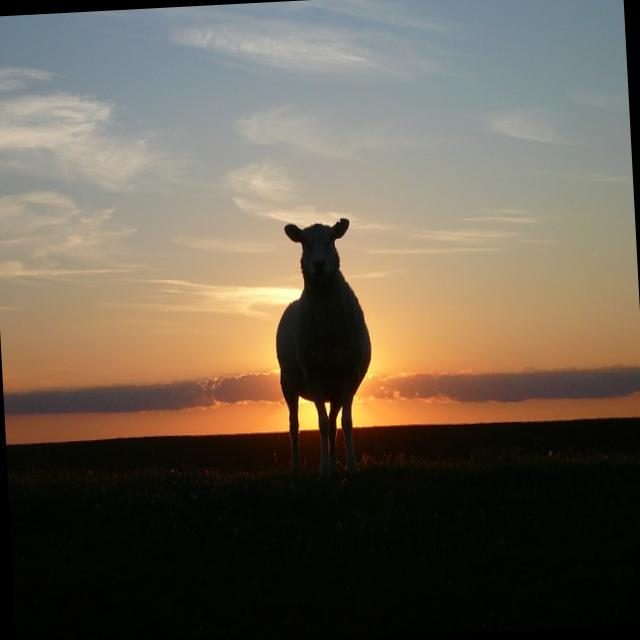animal: (270, 215, 379, 480)
